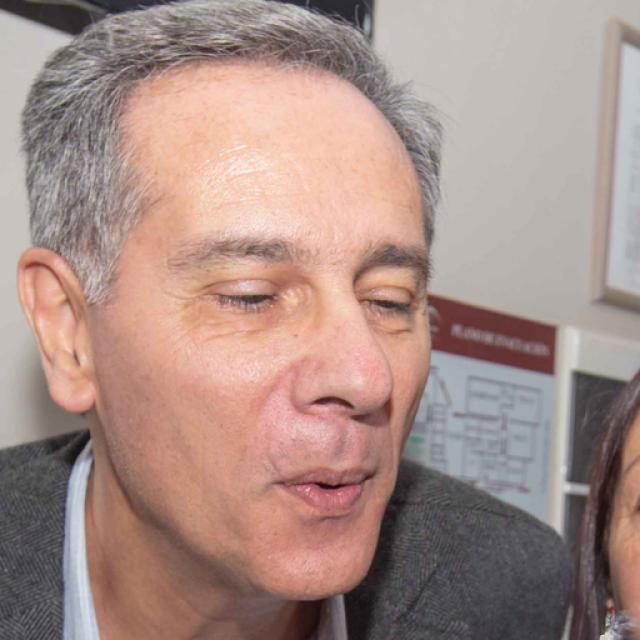neutral: (94, 53, 434, 601)
